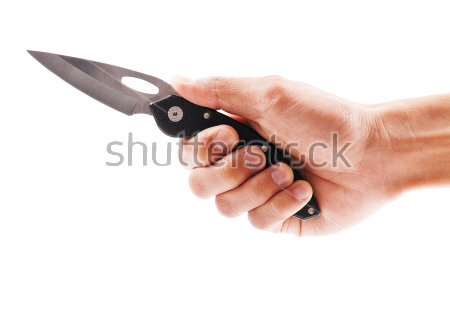knife: (22, 45, 229, 139)
